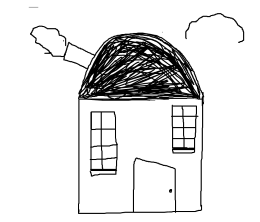closed_window: (85, 109, 122, 177), (167, 102, 201, 157)
clouds: (185, 11, 245, 44)
door: (128, 151, 180, 219)
shaded_roof: (74, 32, 211, 103)
smoking_chimney: (28, 22, 102, 78)
wall: (73, 96, 210, 216)
